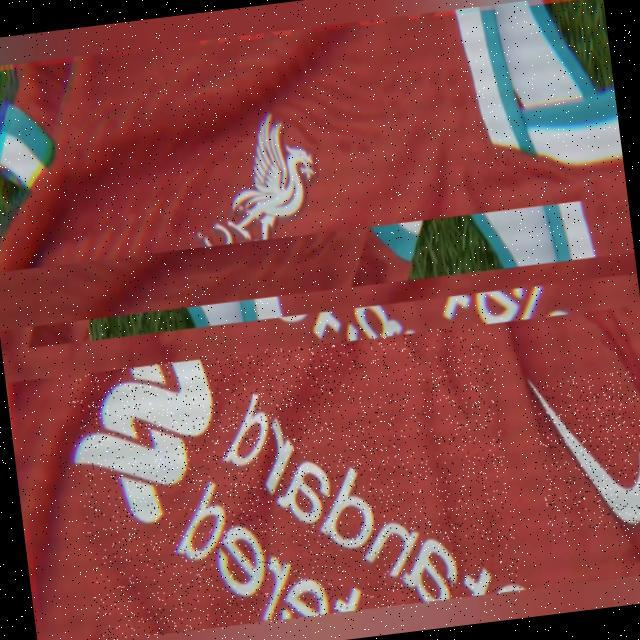Nike: (529, 369, 640, 536)
Standard Chartered: (65, 321, 521, 640)
